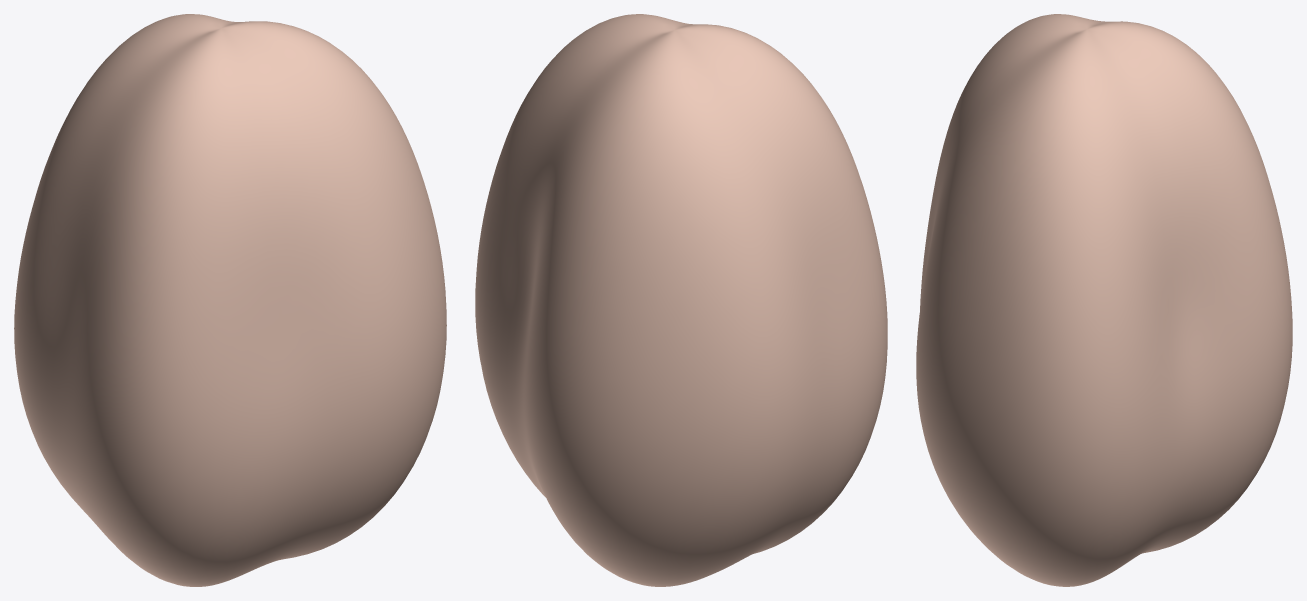
The model's file is _test-specimen.glb.
3 renders of one model, left to right at view 1: azimuth 30°, elevation 25°; view 2: azimuth 150°, elevation 25°; view 3: azimuth 270°, elevation 25°, orthographic.
Parts seen in each view (by area): view 1: test-shell; view 2: test-shell; view 3: test-shell.
Boxes of the visible parts, <box> form: test-shell: <box>14,14,446,586</box>; test-shell: <box>475,14,887,586</box>; test-shell: <box>916,14,1292,586</box>.
Size of the model in its own units: 1.44 by 2 by 1.3.
